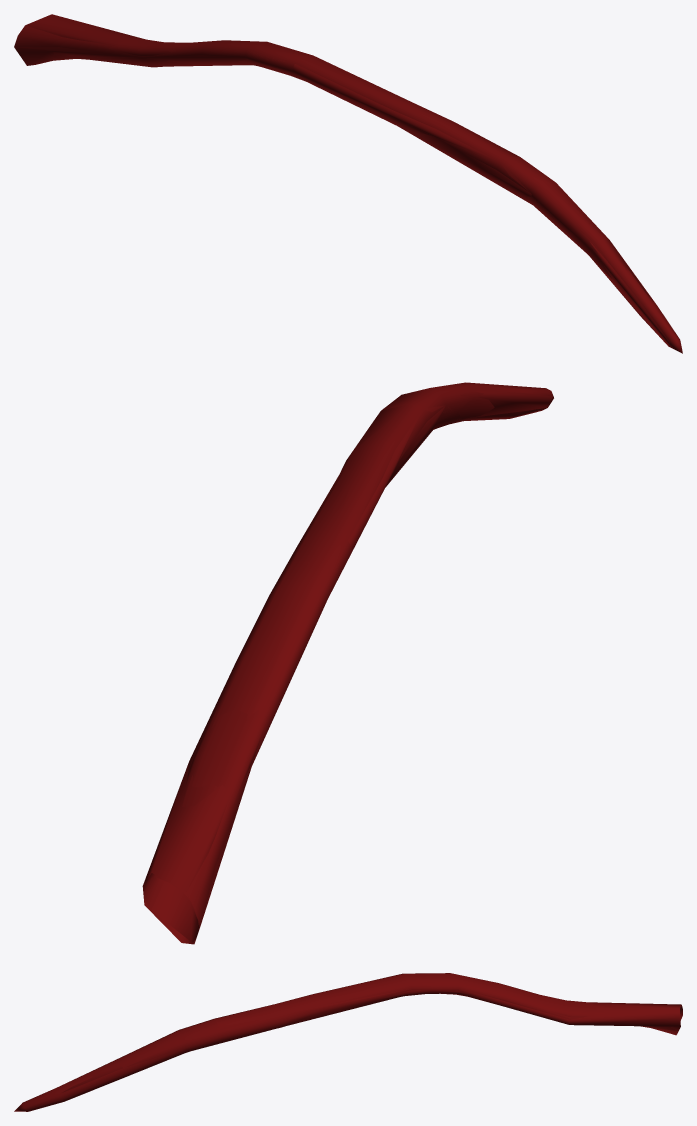
Rendered from R arteria lingualis.fbx.
The picture shows the model from 3 angles, top to bottom: view 1: azimuth 30°, elevation 25°; view 2: azimuth 150°, elevation 25°; view 3: azimuth 270°, elevation 25°; orthographic projection. The views are drawn at different scales.
Visible parts, largest first — view 1: R arteria lingualis, R arteria lingualis low, R arteria lingualis high; view 2: R arteria lingualis, R arteria lingualis low, R arteria lingualis high; view 3: R arteria lingualis, R arteria lingualis low, R arteria lingualis high.
Boxes of the visible parts, box(x1,y1,x2,y2) form: R arteria lingualis: box(14, 25, 682, 353); R arteria lingualis low: box(15, 14, 675, 346); R arteria lingualis high: box(53, 38, 667, 323); R arteria lingualis: box(142, 382, 553, 944); R arteria lingualis low: box(143, 382, 552, 944); R arteria lingualis high: box(143, 386, 535, 943); R arteria lingualis: box(14, 973, 682, 1111); R arteria lingualis low: box(30, 983, 682, 1099); R arteria lingualis high: box(38, 978, 682, 1099).
Size of the model in its own units: 2.96 by 1.67 by 10.58.
